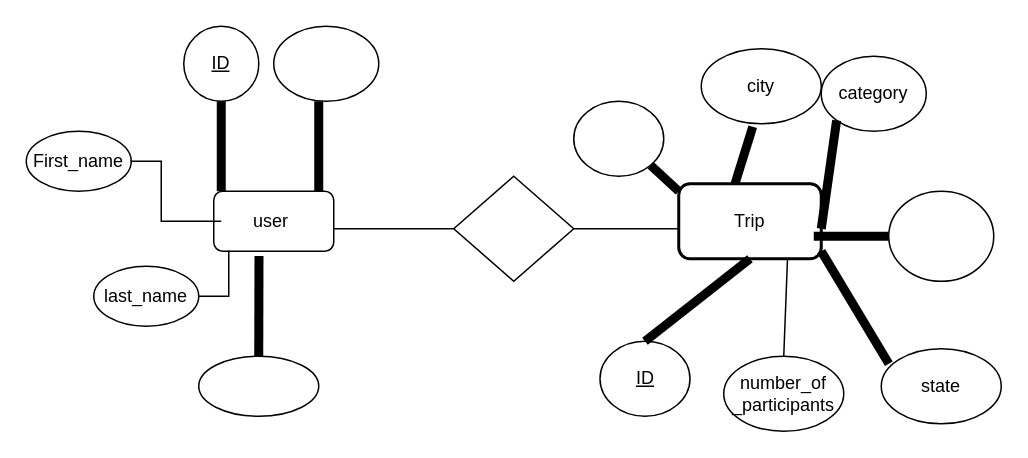
Some shapes in this 1028 by 458 pixel diagram are drawn without their labels. Here are the shapes that lost their labels. From the top down, the centre of each, then its label:
At (325,63): "username".
At (618,138): "date".
At (513,228): "Has a".
At (940,235): "start_time".
At (258,385): "password".
